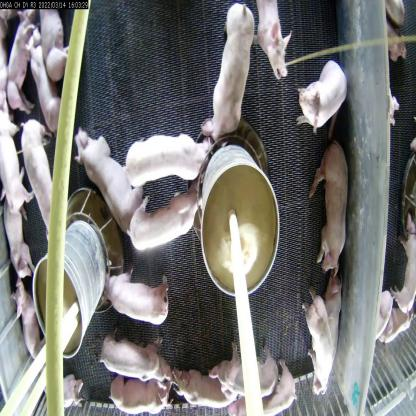Pig: (69, 121, 145, 246), (201, 3, 260, 152), (306, 138, 356, 278), (15, 110, 66, 244), (122, 194, 219, 260), (122, 122, 212, 189), (289, 55, 354, 142), (101, 267, 176, 338), (22, 34, 66, 148), (92, 326, 168, 392), (0, 93, 35, 234), (206, 342, 286, 399), (250, 1, 298, 91), (300, 283, 334, 408), (221, 367, 309, 415), (6, 8, 42, 120), (33, 4, 78, 92), (2, 188, 37, 294), (9, 279, 48, 374), (168, 370, 244, 415), (101, 370, 172, 416), (390, 207, 416, 323), (322, 267, 346, 375), (368, 284, 401, 353), (40, 372, 88, 415)
